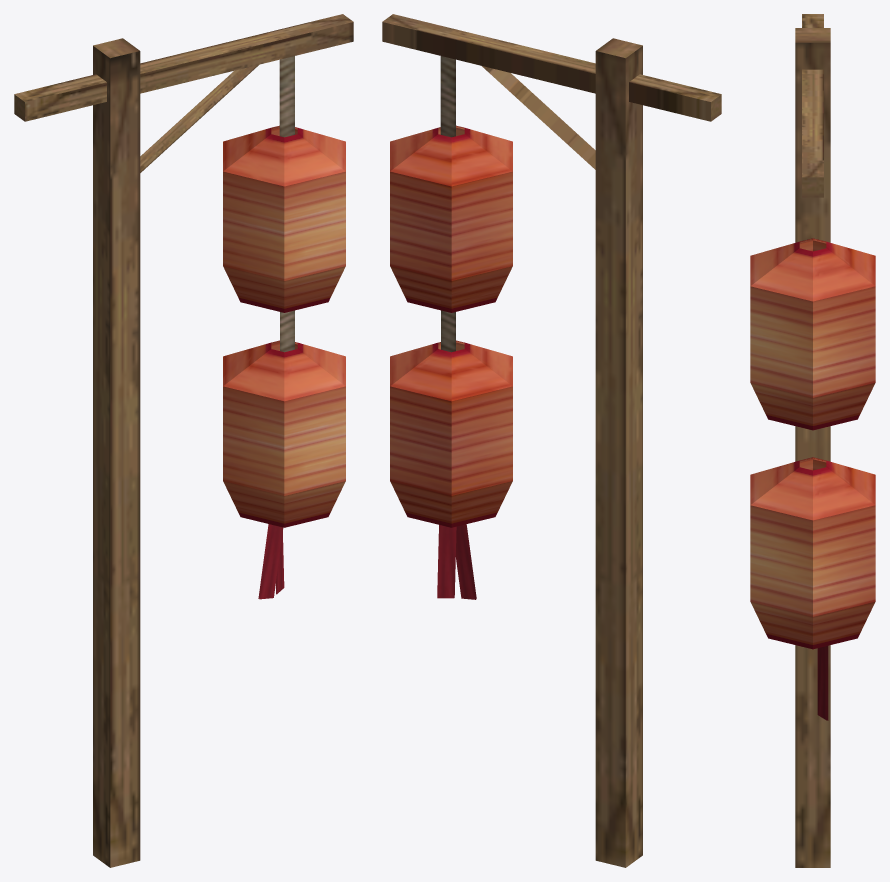
Rendered from a_wujian_denglong.fbx.
3 views of the same model, side by side, from view 1: azimuth 30°, elevation 25°; view 2: azimuth 150°, elevation 25°; view 3: azimuth 270°, elevation 25° (orthographic).
Parts seen in each view (by area): view 1: polySurface202, polySurface206, polySurface199, polySurface200, polySurface203, polySurface201, polySurface210; view 2: polySurface202, polySurface206, polySurface199, polySurface200, polySurface203, polySurface211, polySurface208, polySurface204; view 3: polySurface199, polySurface206, polySurface202, polySurface200, polySurface205.
Part boxes in pixels (box(x1,y1,x2,y2)): polySurface202: box(93, 38, 140, 867); polySurface206: box(223, 340, 345, 527); polySurface199: box(223, 125, 345, 312); polySurface200: box(14, 14, 353, 121); polySurface203: box(140, 65, 258, 172); polySurface201: box(280, 56, 294, 137); polySurface210: box(259, 524, 283, 599); polySurface202: box(595, 38, 642, 867); polySurface206: box(390, 340, 512, 527); polySurface199: box(390, 125, 512, 312); polySurface200: box(382, 14, 721, 121); polySurface203: box(482, 66, 595, 169); polySurface211: box(437, 525, 455, 598); polySurface208: box(440, 56, 455, 137); polySurface204: box(455, 524, 475, 599); polySurface199: box(750, 238, 875, 430); polySurface206: box(750, 457, 875, 649); polySurface202: box(795, 28, 830, 867); polySurface200: box(802, 14, 823, 197); polySurface205: box(817, 646, 827, 720).
Bounding box in the file's own units: 1.64 × 3.87 × 0.532.
